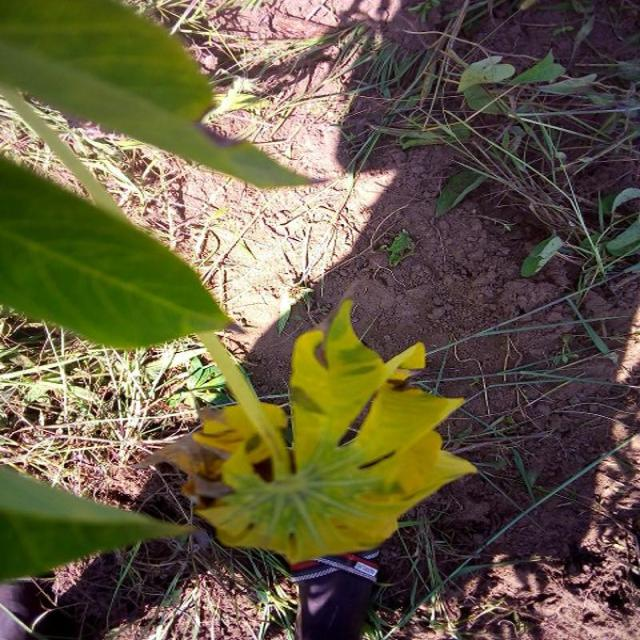cassava leaf: (182, 296, 478, 568), (2, 0, 328, 191), (2, 150, 235, 351), (2, 462, 200, 584)
